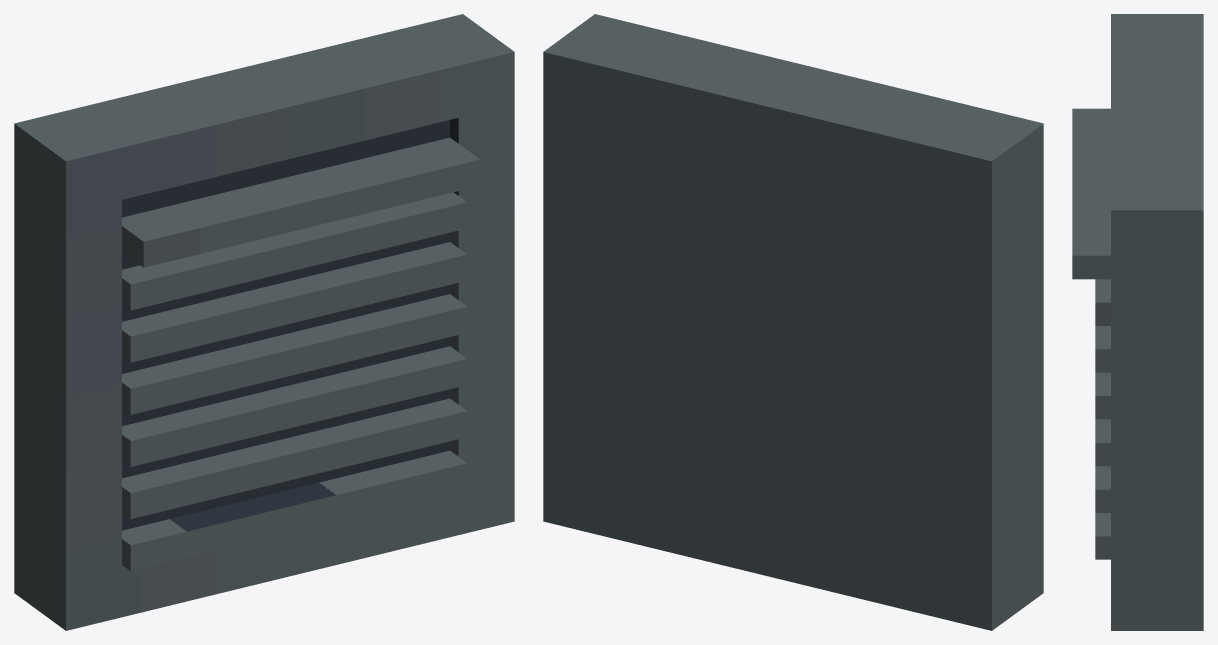
The model's file is rejilla.gltf.
3 renders of one model, left to right at view 1: azimuth 30°, elevation 25°; view 2: azimuth 150°, elevation 25°; view 3: azimuth 270°, elevation 25°, orthographic. The views are drawn at different scales.
Parts seen in each view (by area): view 1: mesh; view 2: mesh; view 3: mesh.
Boxes of the visible parts, <box> form: mesh: <box>14,14,514,630</box>; mesh: <box>543,14,1043,630</box>; mesh: <box>1072,14,1203,630</box>.
Size of the model in its own units: 0.375 by 0.375 by 0.1063.
1 material, 1 textured.
